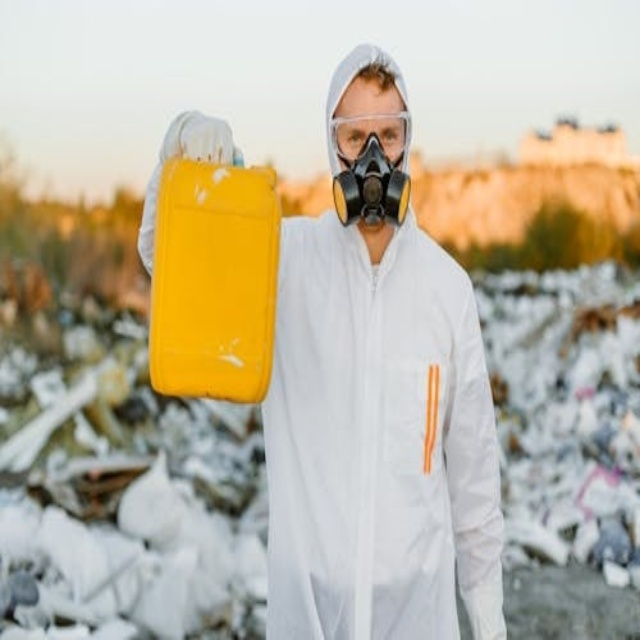Gafas: (331, 112, 412, 164)
Guantes: (162, 111, 241, 167), (460, 577, 509, 640)
Mascara: (332, 133, 411, 229)
